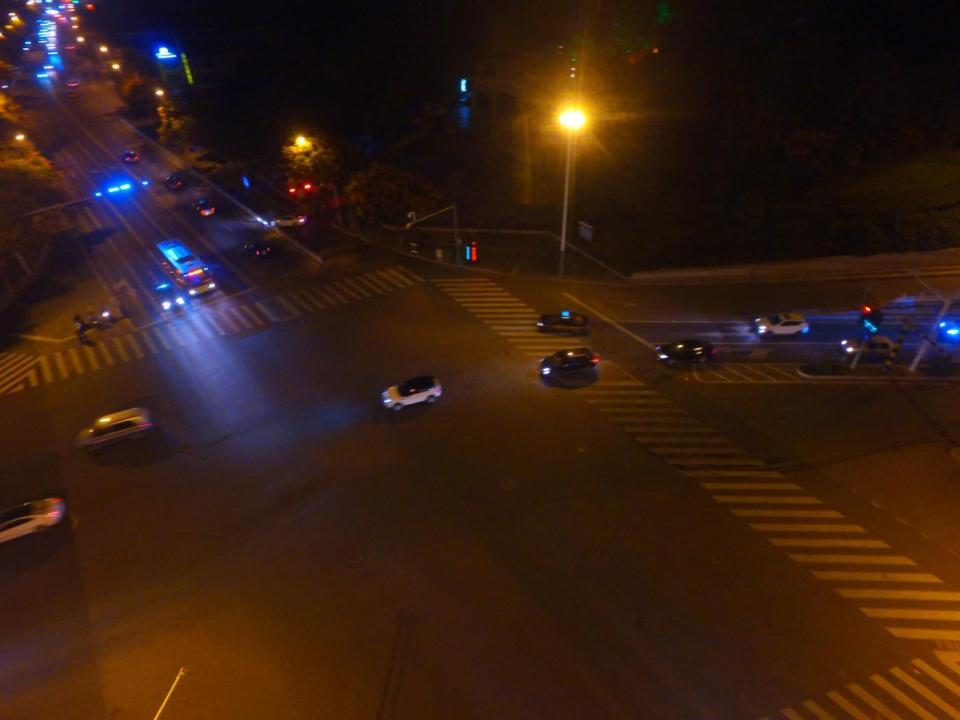car: (75, 403, 151, 451), (0, 494, 63, 550), (381, 375, 440, 412), (539, 345, 597, 380), (656, 342, 718, 369), (538, 309, 592, 334), (754, 314, 813, 336), (841, 335, 891, 357), (152, 283, 184, 314), (244, 237, 272, 264), (268, 215, 309, 230), (191, 200, 214, 217), (166, 177, 180, 193), (122, 151, 139, 164), (68, 92, 79, 99)
